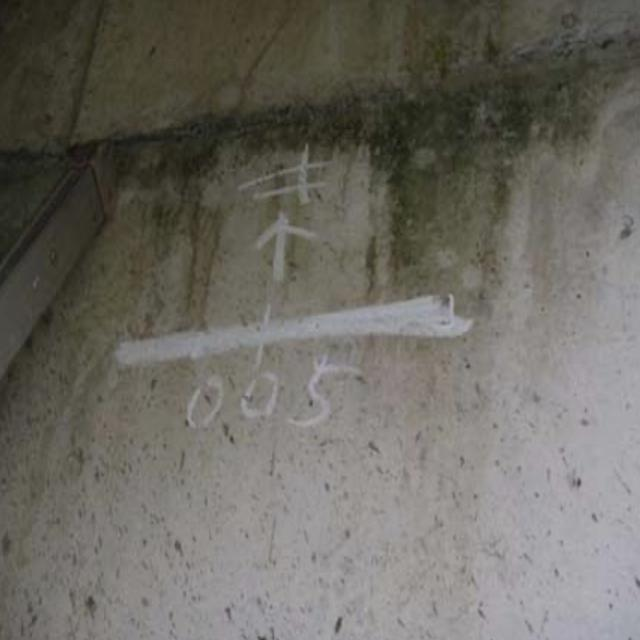freelime: (113, 99, 594, 258)
